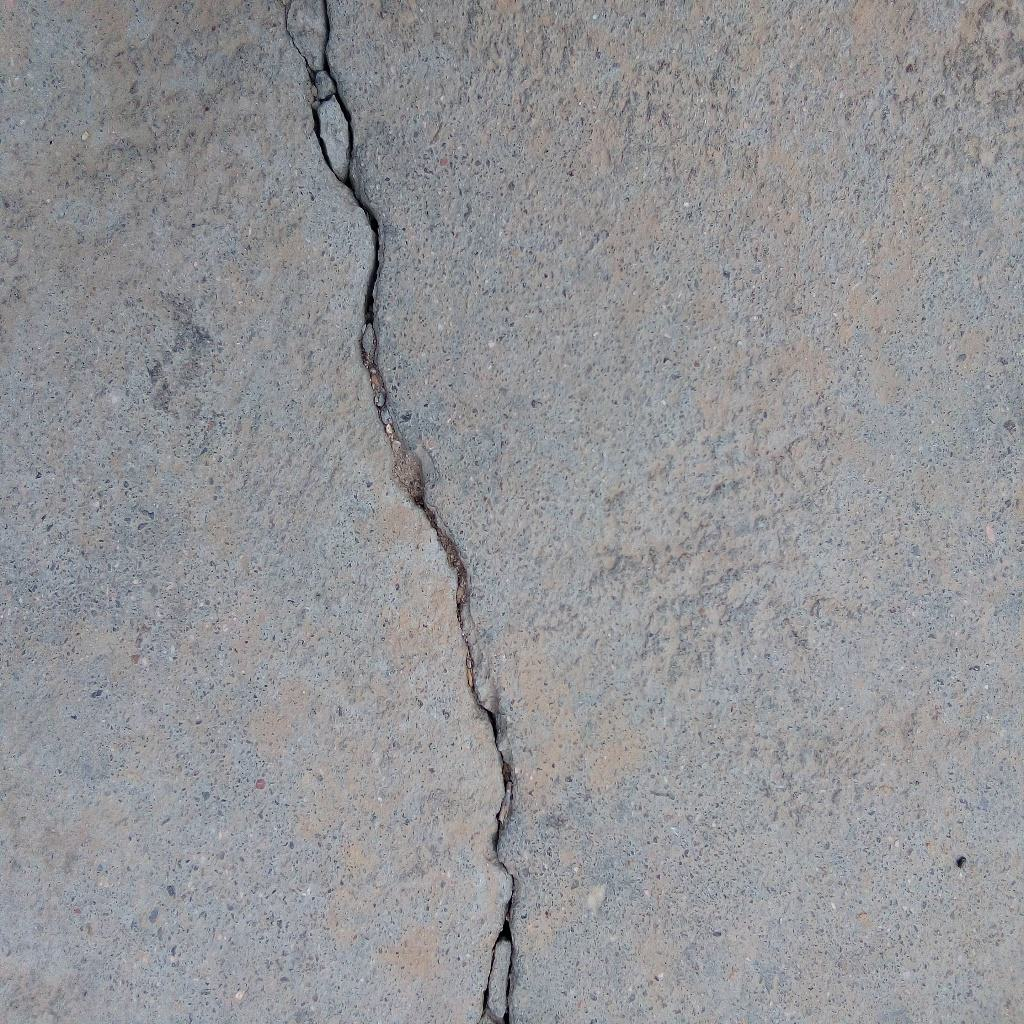Crack: (282, 1, 519, 1024)
